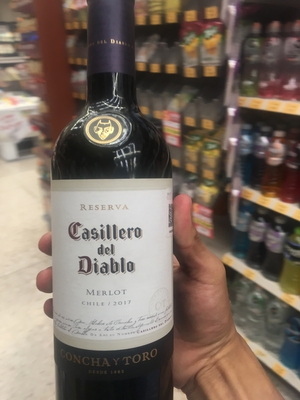casillero del diablo merlot: (51, 23, 180, 400)
